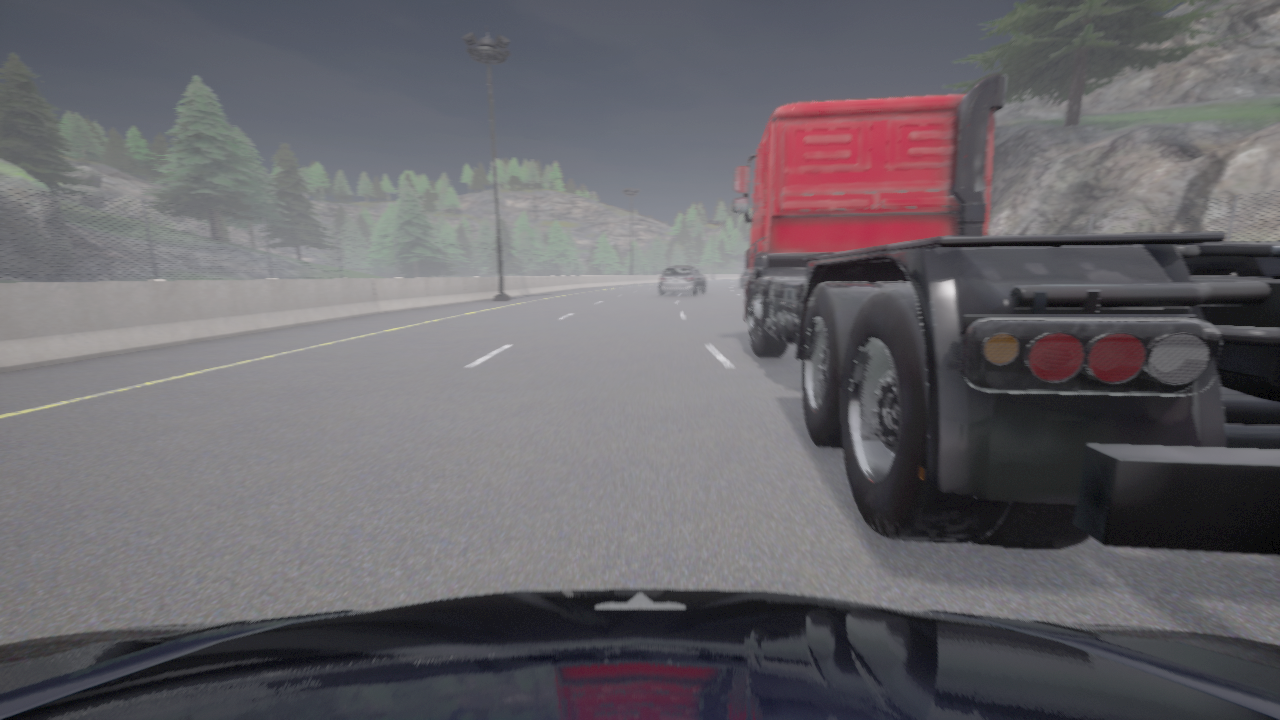cyclist: (732, 75, 1279, 555), (0, 588, 1279, 719), (659, 267, 705, 295), (739, 269, 749, 288), (702, 277, 705, 283)
